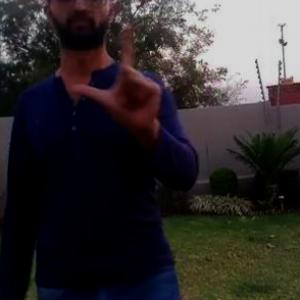land_hand: (72, 18, 172, 135)
